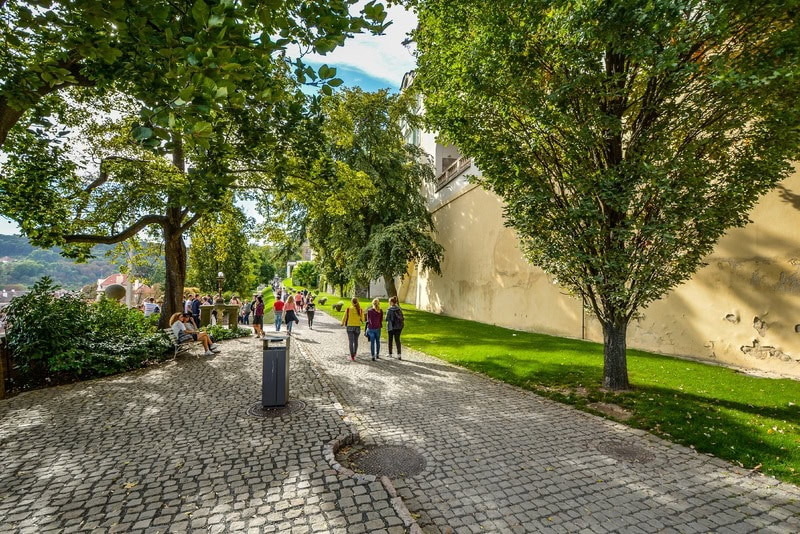Person: (378, 293, 409, 363), (334, 294, 365, 361), (363, 295, 389, 365)
TrashBin: (256, 331, 301, 413)
Tree: (418, 4, 796, 415), (1, 1, 277, 334)
